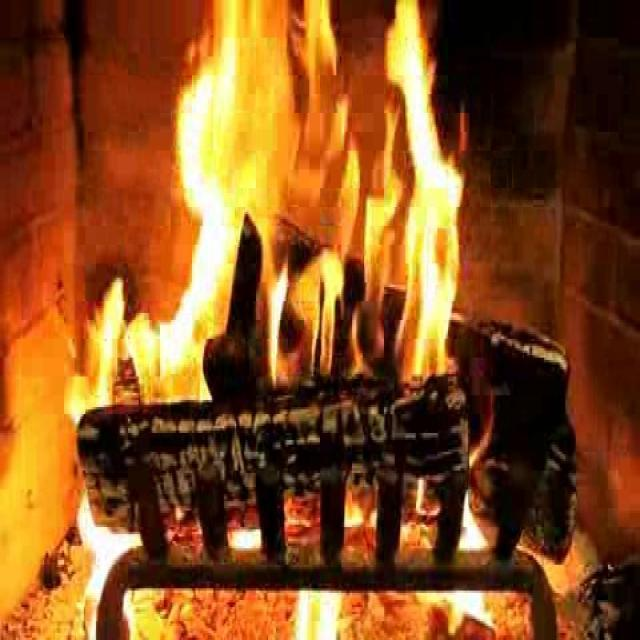Fire: (172, 14, 469, 386)
